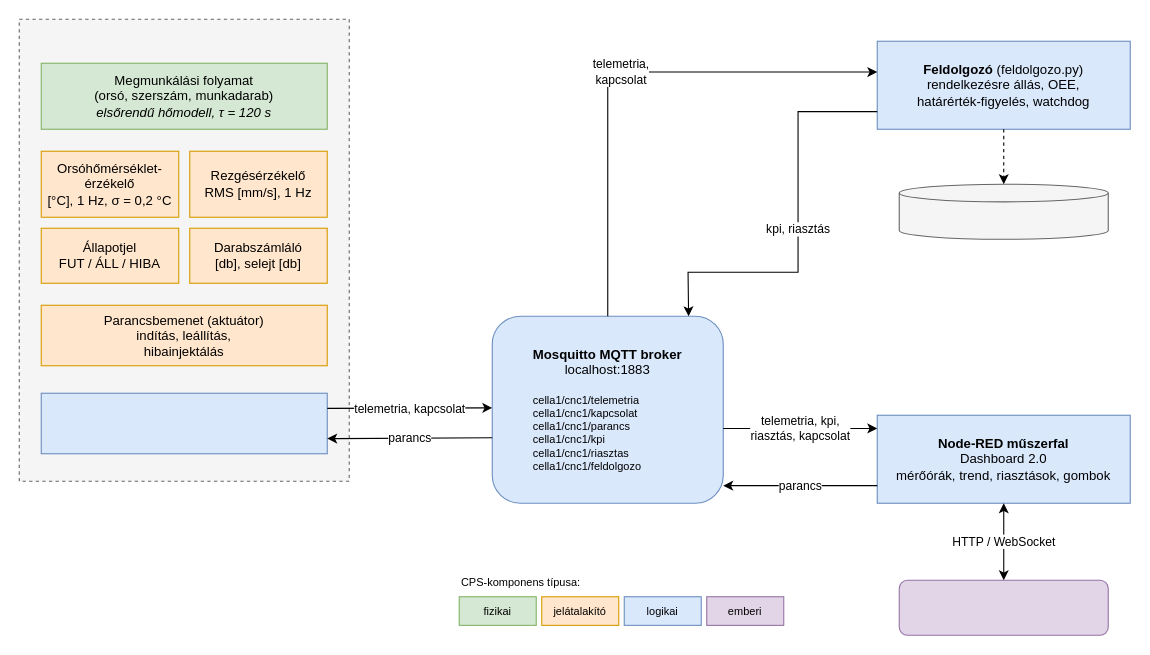
Some shapes in this 1150 by 655 pixel diagram are drawn without their labels. Each missing label, with the box of its shape:
Kezelő / karbantartó (böngésző): (898, 579, 1108, 635)
MQTT kliens (publikáló / feliratkozó) paho-mqtt, LWT: offline: (40, 392, 327, 454)
Naplófájlok (CSV) késleltetés, riasztás, KPI: (898, 183, 1108, 239)
Szimulált CNC-megmunkáló cella (szimulator.py): (18, 18, 349, 481)
